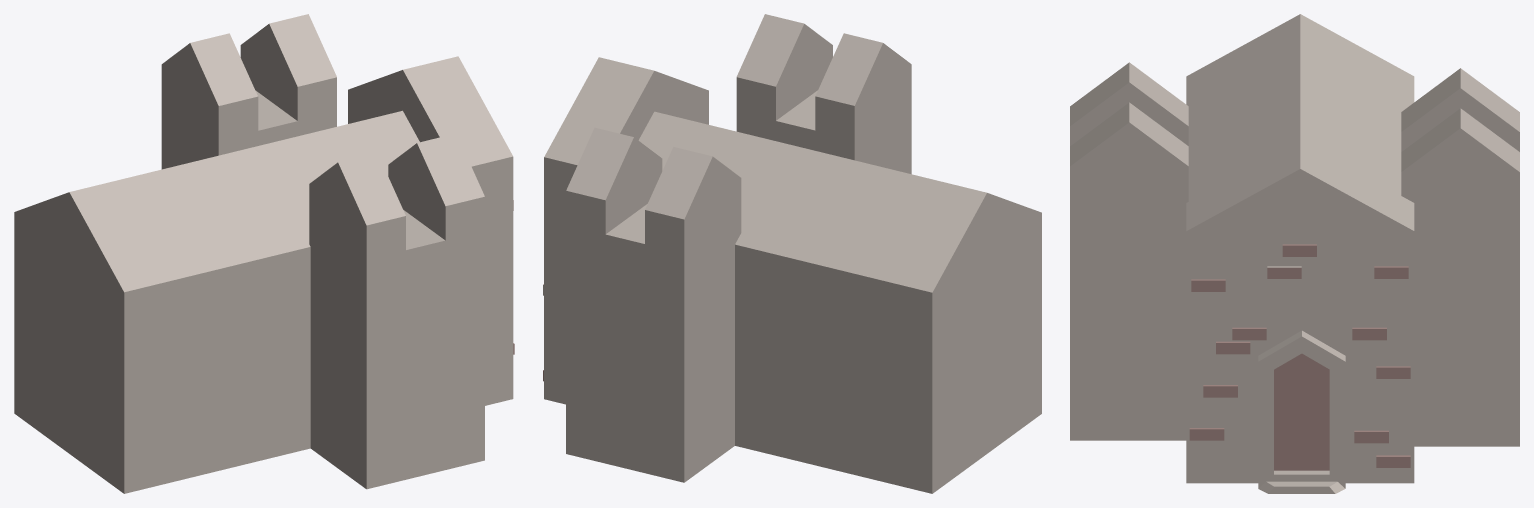
The model's file is Eglise.fbx.
3 views of the same model, side by side, from view 1: azimuth 30°, elevation 25°; view 2: azimuth 150°, elevation 25°; view 3: azimuth 270°, elevation 25° (orthographic). The views are drawn at different scales.
Visible parts, largest first — view 1: Eglise.001; view 2: Eglise.001; view 3: Eglise.001.
Part boxes in pixels (x1=…): Eglise.001: x1=14, y1=14, x2=514, y2=493; Eglise.001: x1=543, y1=14, x2=1041, y2=493; Eglise.001: x1=1070, y1=14, x2=1519, y2=493.
Bounding box in the file's own units: 2739 × 1951 × 2498.
